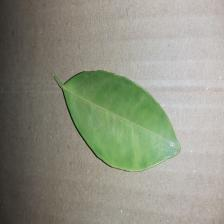greening: (64, 74, 147, 145)
